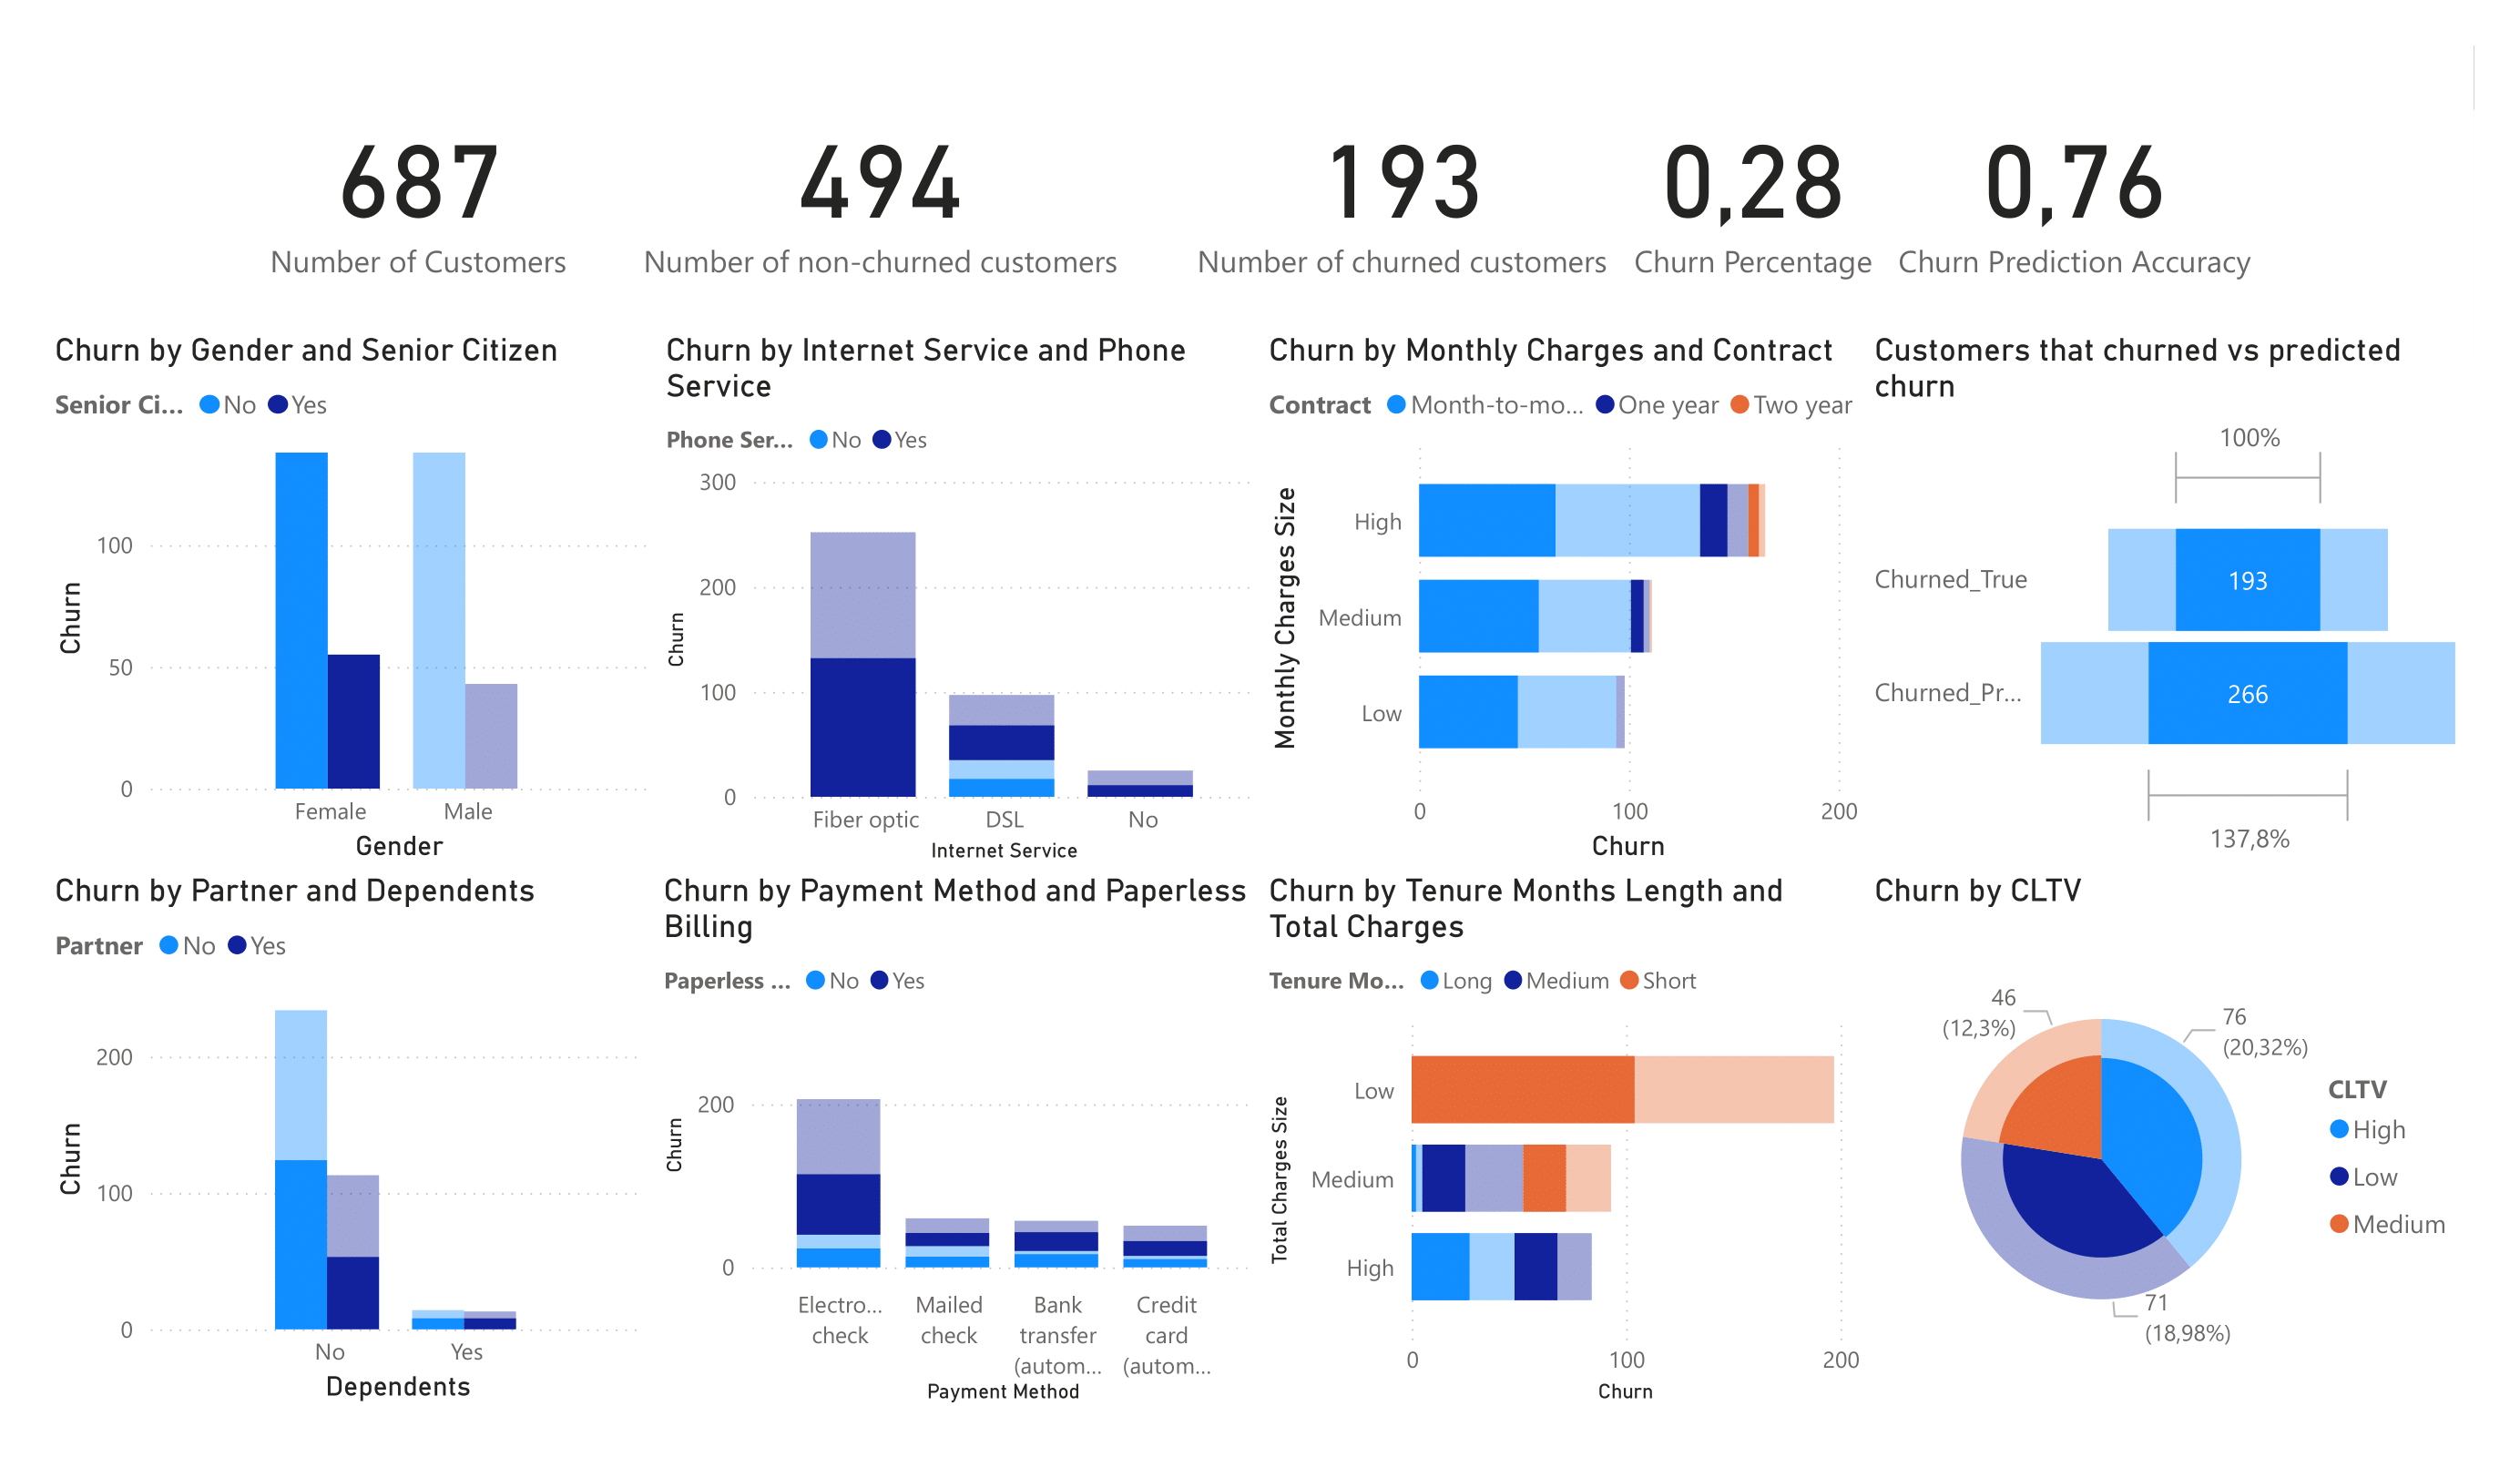

The dashboard page shown, as its layout file describes it:
{"tool":"powerbi","page":{"name":"Side 1","canvas":[1280,720],"ordinal":0},"visuals":[{"type":"card","fields":{"Values":["Avg(Forespørgsel1.y_true)"]},"box":[829.7,0,140.1,149.8],"z":0},{"type":"pieChart","title":"Churn by CLTV","fields":{"Y":["Sum(Attributes.y_true)"],"Category":["Attributes.CLTV Size"]},"box":[959,434.8,321,285],"z":1000},{"type":"card","fields":{"Values":["Attributes.Churn Prediction Accuracy"]},"box":[969.7,0,199.4,149.8],"z":2000},{"type":"barChart","title":"Churn by Tenure Months Length and Total Charges","fields":{"Category":["Attributes.Total Charges Size"],"Series":["Attributes.Tenure Months Length"],"Y":["Sum(Attributes.y_true)"]},"box":[640,434.8,321,285],"z":3000},{"type":"barChart","title":"Churn by Monthly Charges and Contract","fields":{"Category":["Attributes.Monthly Charges Size"],"Y":["Sum(Attributes.y_true)"],"Series":["Attributes.Contract"]},"box":[640,149.8,320,285],"z":4000},{"type":"columnChart","title":"Churn by Payment Method and Paperless Billing","fields":{"Category":["Attributes.Payment Method"],"Y":["Sum(Attributes.y_true)"],"Series":["Attributes.Paperless Billing"]},"box":[321,434.8,321,285],"z":5000},{"type":"columnChart","title":"Churn by Internet Service and Phone Service","fields":{"Category":["Attributes.Internet Service"],"Y":["Sum(Attributes.y_true)"],"Series":["Attributes.Phone Service"]},"box":[321.9,149.8,320,285],"z":6000},{"type":"clusteredColumnChart","title":"Churn by Partner and Dependents","fields":{"Category":["Attributes.Dependents"],"Series":["Attributes.Partner"],"Y":["Sum(Attributes.y_true)"]},"box":[0,434.8,321,285],"z":7000},{"type":"clusteredColumnChart","title":"Churn by Gender and Senior Citizen","fields":{"Category":["Attributes.Gender"],"Series":["Attributes.Senior Citizen"],"Y":["Sum(Attributes.y_true)"]},"box":[0,149.8,321.9,285],"z":8000},{"type":"funnel","title":"Customers that churned vs predicted churn","fields":{"Y":["Sum(Attributes.y_true)","Sum(Attributes.y_pred)"]},"box":[959,149.8,321,285],"z":9000},{"type":"card","fields":{"Values":["CountNonNull(Attributes.y_true)"]},"box":[110.9,0,171.2,149.8],"z":10000},{"type":"card","fields":{"Values":["CountNonNull(Attributes.y_true)"]},"box":[600.1,0,229.5,149.8],"z":11000},{"type":"card","fields":{"Values":["CountNonNull(Attributes.y_true)"]},"box":[280.1,0,320,149.8],"z":12000}]}

Visuals, with their boxes in screenshot pixels (x1, y1, x2, y2):
card - Avg(Forespørgsel1.y_true): 1757, 66, 2020, 346
"Churn by CLTV" pieChart: 1999, 880, 2519, 1413
card - Attributes.Churn Prediction Accuracy: 2019, 66, 2392, 346
"Churn by Tenure Months Length and Total Charges" barChart: 1402, 880, 2003, 1413
"Churn by Monthly Charges and Contract" barChart: 1402, 346, 2001, 880
"Churn by Payment Method and Paperless Billing" columnChart: 804, 880, 1405, 1413
"Churn by Internet Service and Phone Service" columnChart: 806, 346, 1405, 880
"Churn by Partner and Dependents" clusteredColumnChart: 203, 880, 804, 1413
"Churn by Gender and Senior Citizen" clusteredColumnChart: 203, 346, 806, 880
"Customers that churned vs predicted churn" funnel: 1999, 346, 2519, 880
card - CountNonNull(Attributes.y_true): 411, 66, 731, 346
card - CountNonNull(Attributes.y_true): 1327, 66, 1757, 346
card - CountNonNull(Attributes.y_true): 728, 66, 1327, 346
